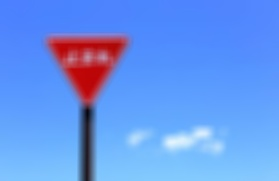Regulatory_sign_triangle: (47, 33, 132, 109)
